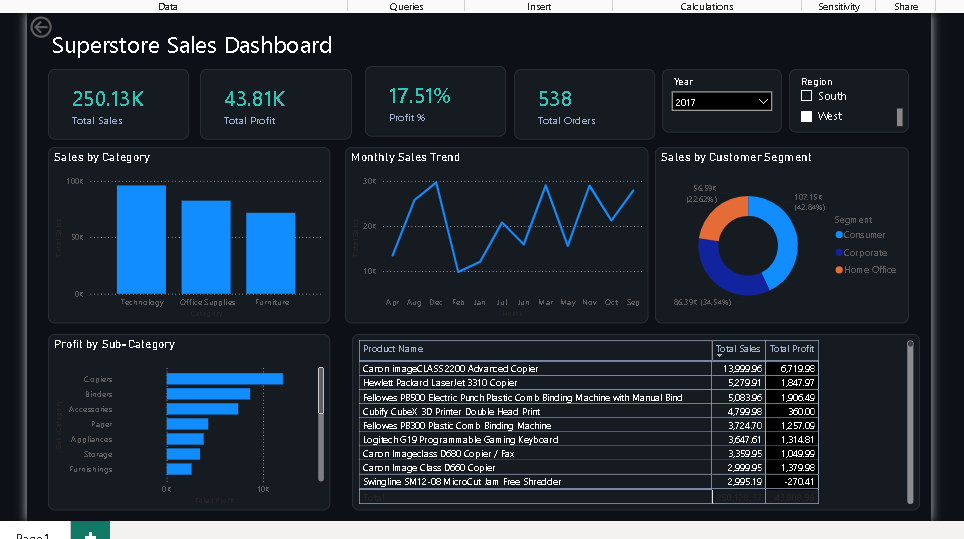

What the dashboard file says about the page in this screenshot:
{"tool":"powerbi","page":{"name":"Page 1","canvas":[1280,720],"ordinal":0},"visuals":[{"type":"cardVisual","fields":{"Data":["Calendar.Total Sales"]},"box":[29.8,79.4,200,100],"z":0},{"type":"cardVisual","fields":{"Data":["Calendar.Total Profit"]},"box":[245.2,79.4,215.4,100],"z":1000},{"type":"cardVisual","fields":{"Data":["Calendar.Profit %"]},"box":[479.1,75.1,200,100],"z":2000},{"type":"cardVisual","fields":{"Data":["Calendar.Total Orders"]},"box":[690.2,79.4,200,100],"z":3000},{"type":"clusteredColumnChart","title":"Sales by Category","fields":{"Category":["Products.Category"],"Y":["Orders.Total Sales"]},"box":[30,190,400,250],"z":4000},{"type":"lineChart","title":"Monthly Sales Trend","fields":{"Category":["Calendar.Month"],"Y":["Orders.Total Sales"]},"box":[450.7,189.9,430,250],"z":5000},{"type":"donutChart","title":" Sales by Customer Segment","fields":{"Category":["Customers.Segment"],"Y":["Orders.Total Sales"]},"box":[890,190,360,250],"z":6000},{"type":"tableEx","title":"Top Product by Sales","fields":{"Values":["Products.Product Name","Orders.Total Sales","Orders.Total Profit"]},"box":[460.6,455,805,250],"z":7000},{"type":"clusteredBarChart","title":"Profit by Sub-Category","fields":{"Category":["Products.Sub-Category"],"Y":["Orders.Total Profit"]},"box":[30,455,400,250],"z":8000},{"type":"slicer","fields":{"Values":["Orders.Region"]},"box":[1080,80,170,90],"z":9000},{"type":"actionButton","box":[0,0,100,40],"z":10000},{"type":"slicer","fields":{"Values":["Calendar.Year"]},"box":[900,80,170,90],"z":11000},{"type":"textbox","box":[30,15,435.1,59.5],"z":12000}]}

Visuals, with their boxes on the page's 1280x720 design canvas (x1, y1, x2, y2). These are canvas units, not pixel positions in the 964x539 screenshot, which may show the page scaled, cropped or inside an application window:
cardVisual - Calendar.Total Sales: left=30, top=79, right=230, bottom=179
cardVisual - Calendar.Total Profit: left=245, top=79, right=461, bottom=179
cardVisual - Calendar.Profit %: left=479, top=75, right=679, bottom=175
cardVisual - Calendar.Total Orders: left=690, top=79, right=890, bottom=179
"Sales by Category" clusteredColumnChart: left=30, top=190, right=430, bottom=440
"Monthly Sales Trend" lineChart: left=451, top=190, right=881, bottom=440
" Sales by Customer Segment" donutChart: left=890, top=190, right=1250, bottom=440
"Top Product by Sales" tableEx: left=461, top=455, right=1266, bottom=705
"Profit by Sub-Category" clusteredBarChart: left=30, top=455, right=430, bottom=705
slicer - Orders.Region: left=1080, top=80, right=1250, bottom=170
actionButton: left=0, top=0, right=100, bottom=40
slicer - Calendar.Year: left=900, top=80, right=1070, bottom=170
textbox: left=30, top=15, right=465, bottom=74
